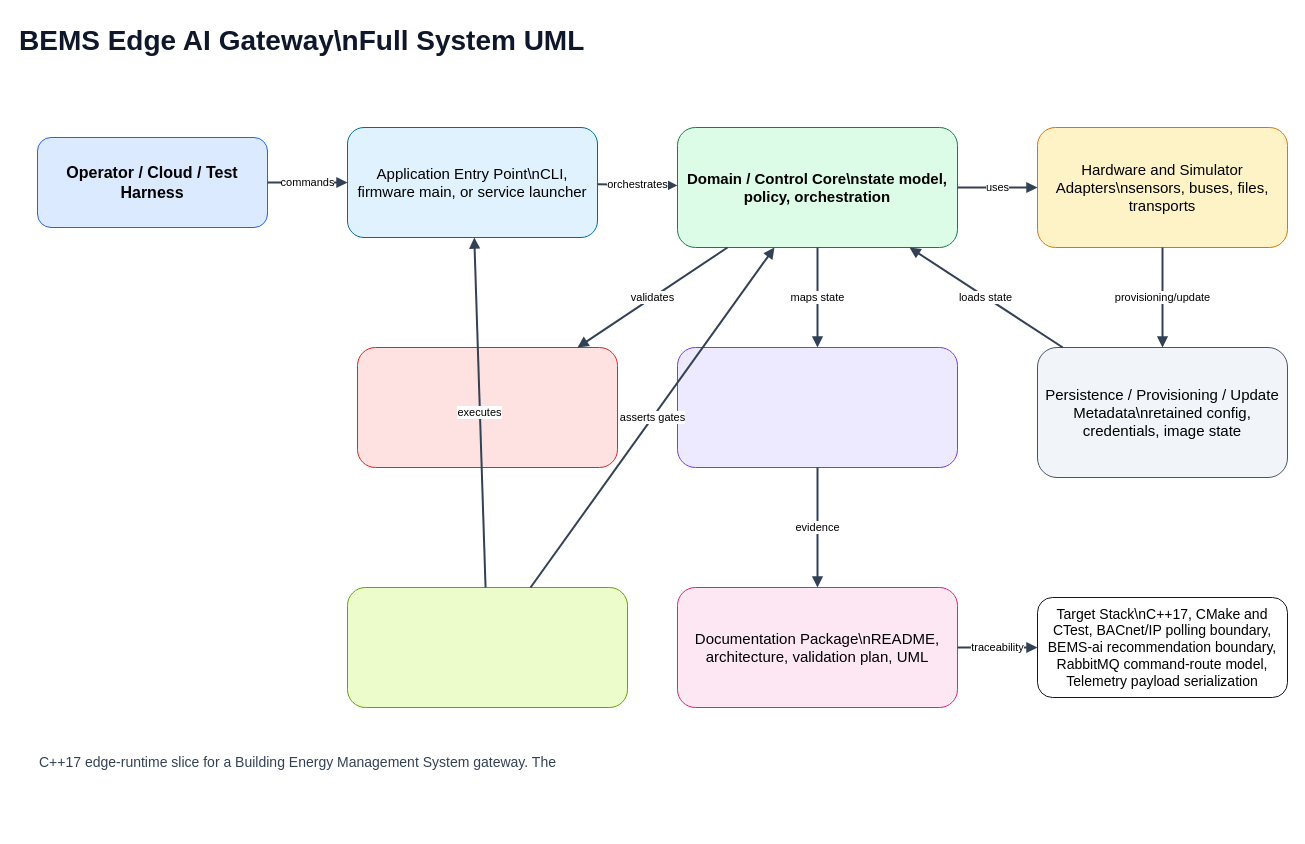
This 1305x844 diagram has some shape labels left out. Here are the shapes that lost their labels. From the top down, the centre of each, then its label:
At point 487,407: "Safety / Readiness Gates\nconfig, battery, timing, OTA, bounds".
At point 817,407: "Telemetry and Evidence\nJSON, reports, logs, measurements".
At point 487,647: "Tests and CI\nCMake, CTest, smoke runs, expected failures".
